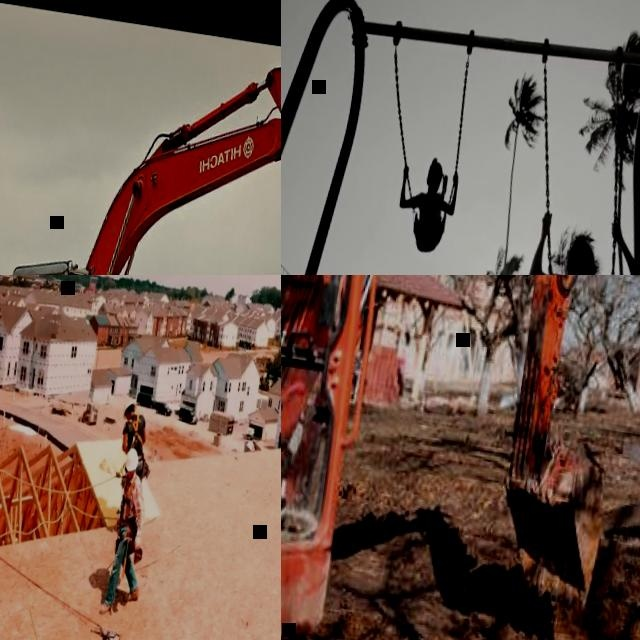Hardhat: (124, 447, 140, 472), (122, 396, 138, 420)
NO-Hardhat: (568, 231, 596, 259), (424, 155, 444, 179)
NO-Mask: (127, 472, 134, 478)
NO-Safety Vest: (412, 188, 444, 249), (119, 474, 141, 524), (125, 412, 146, 453)
Person: (99, 445, 160, 620), (281, 275, 318, 540), (516, 201, 640, 275), (393, 151, 463, 253), (115, 397, 156, 489)
machinery: (281, 275, 640, 640), (0, 8, 281, 275), (78, 399, 101, 426)
vehicle: (178, 404, 200, 425), (135, 390, 157, 410), (154, 400, 173, 417)
